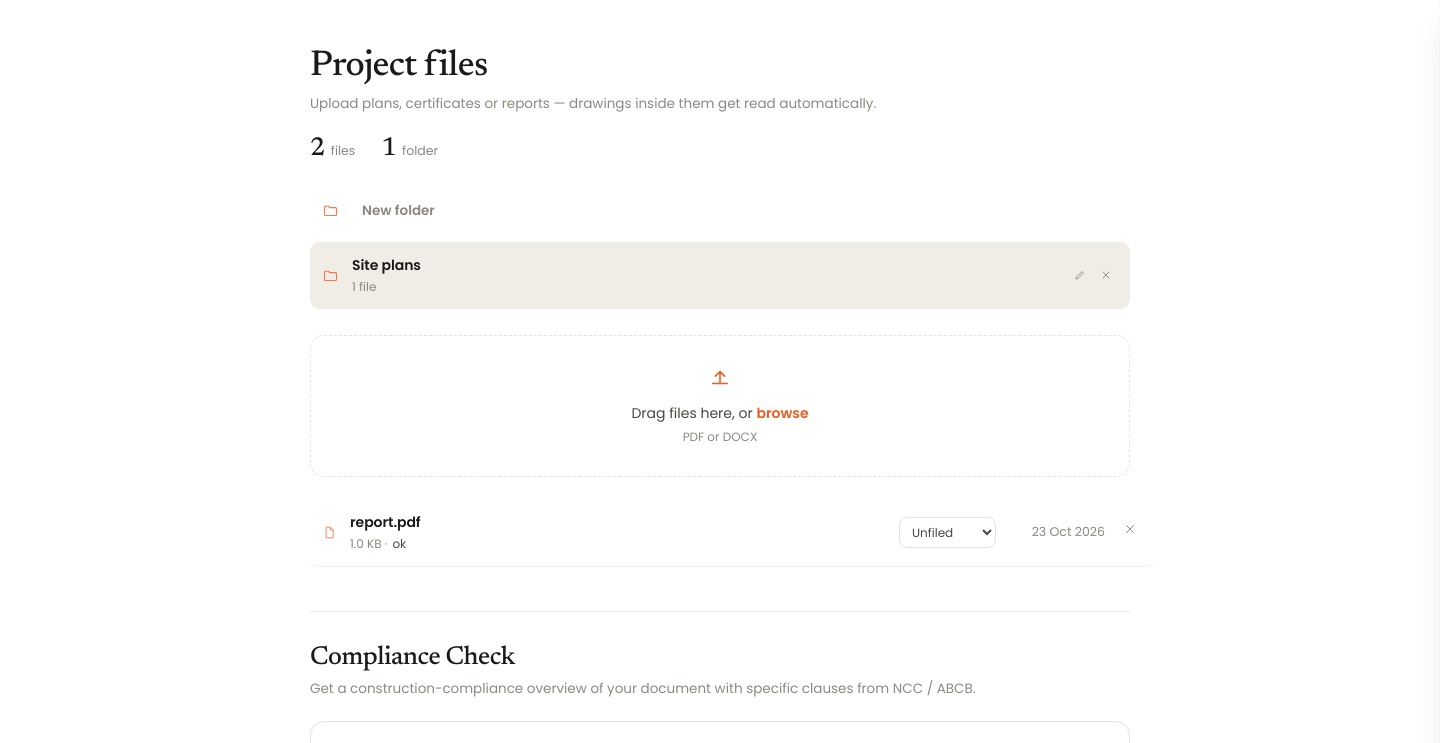
Test: UploadPage › clicking a folder row drills into it, showing only its documents
Click the button "Site plans 1 file" at (386, 265), box [310,242,1055,309]
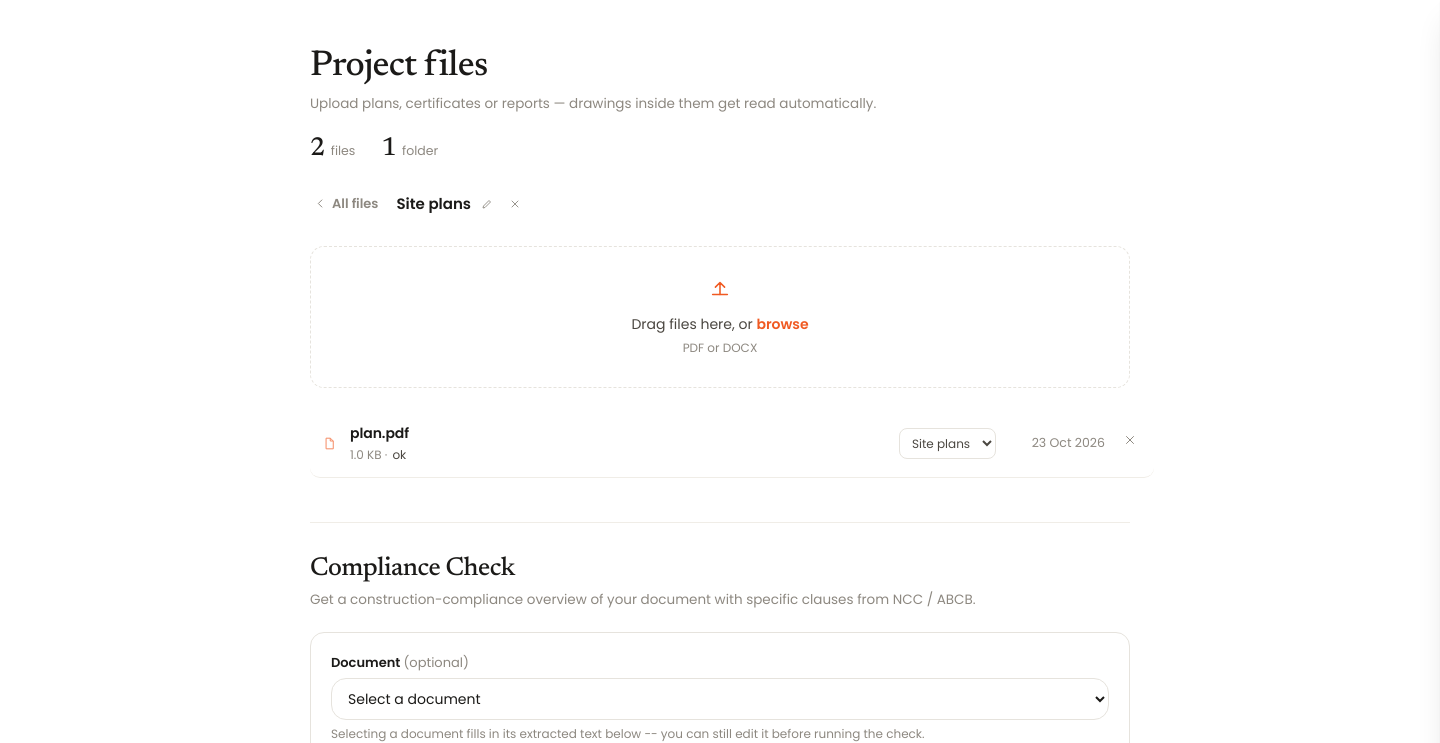
Result: the button "All files" is shown at [310,188,382,220]
Result: the text "plan.pdf" is shown at [350,423,409,443]
Result: the text "report.pdf" is gone
